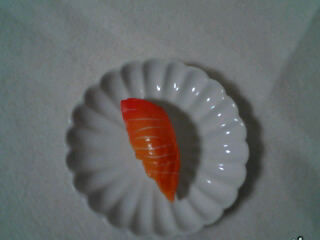002_classes: (112, 94, 189, 204)
